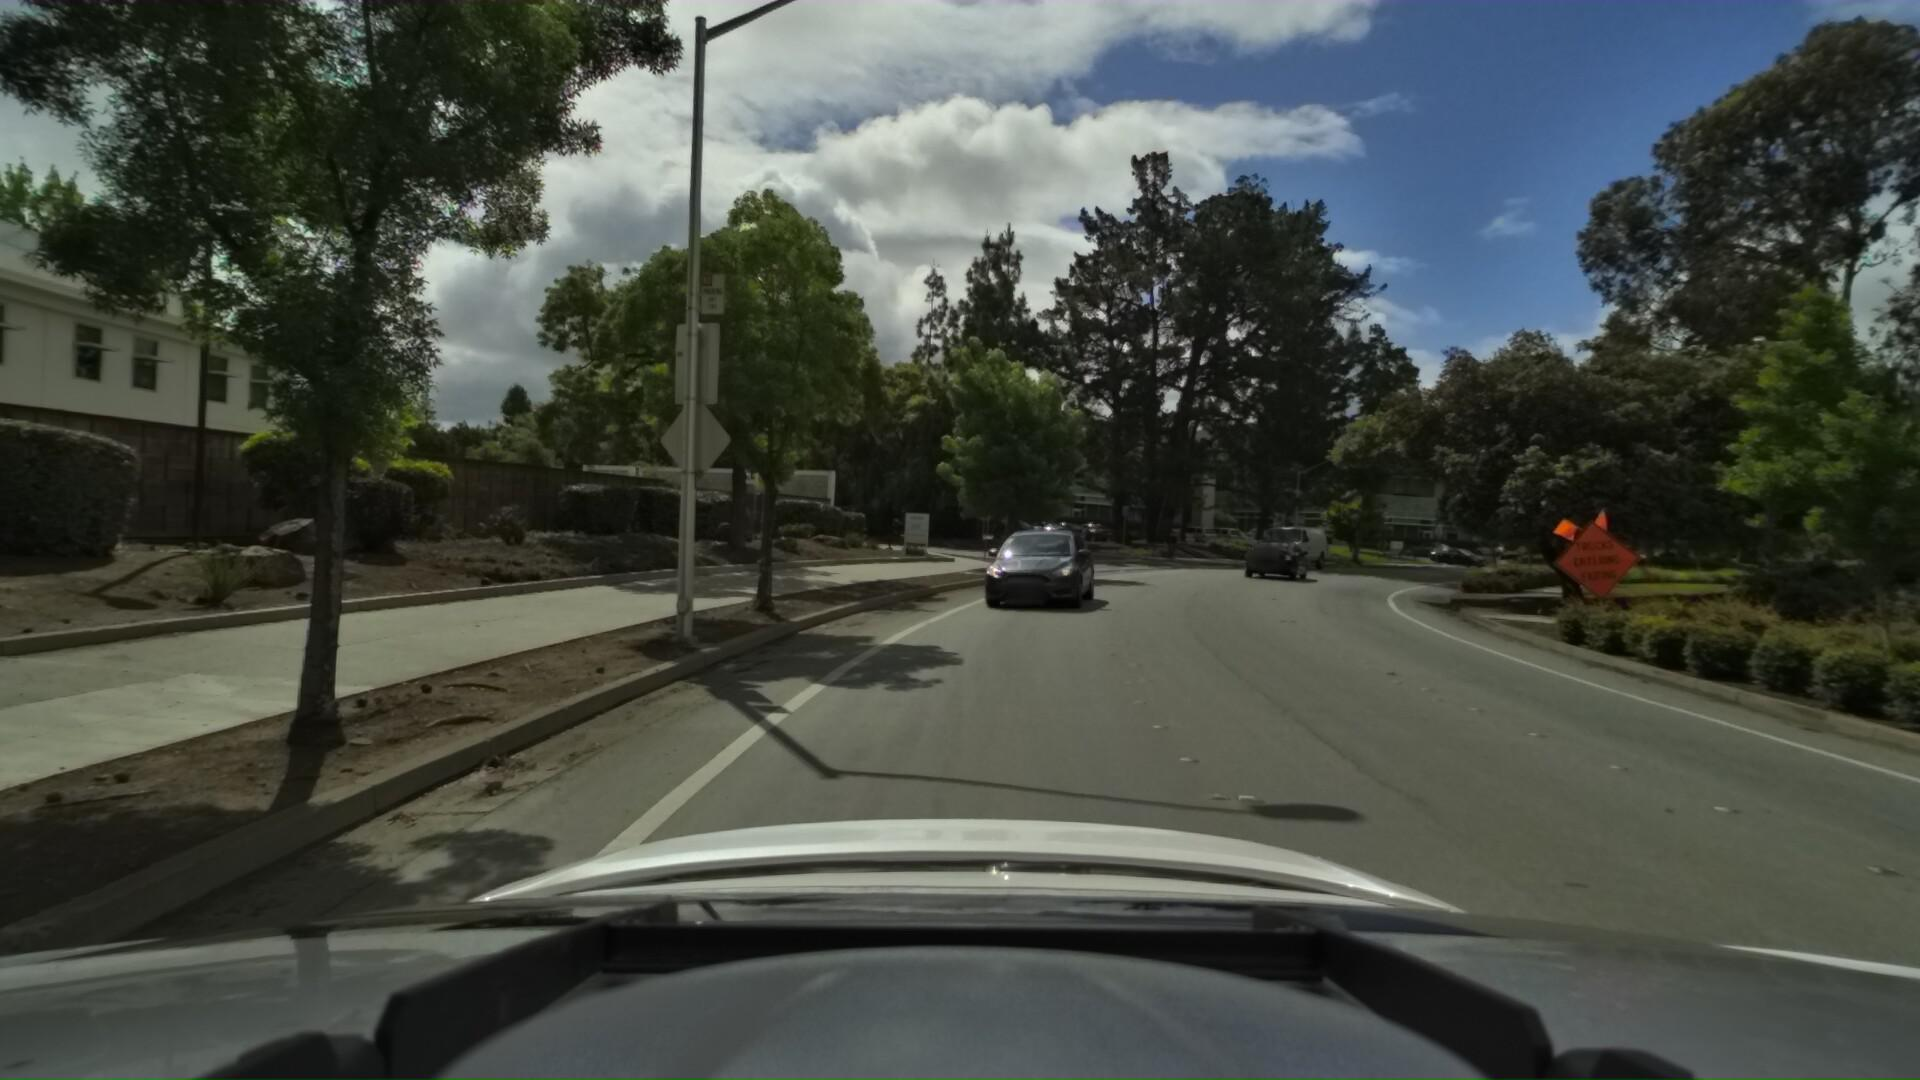car: (982, 516, 1110, 607), (1253, 514, 1338, 568), (1236, 526, 1309, 580)
